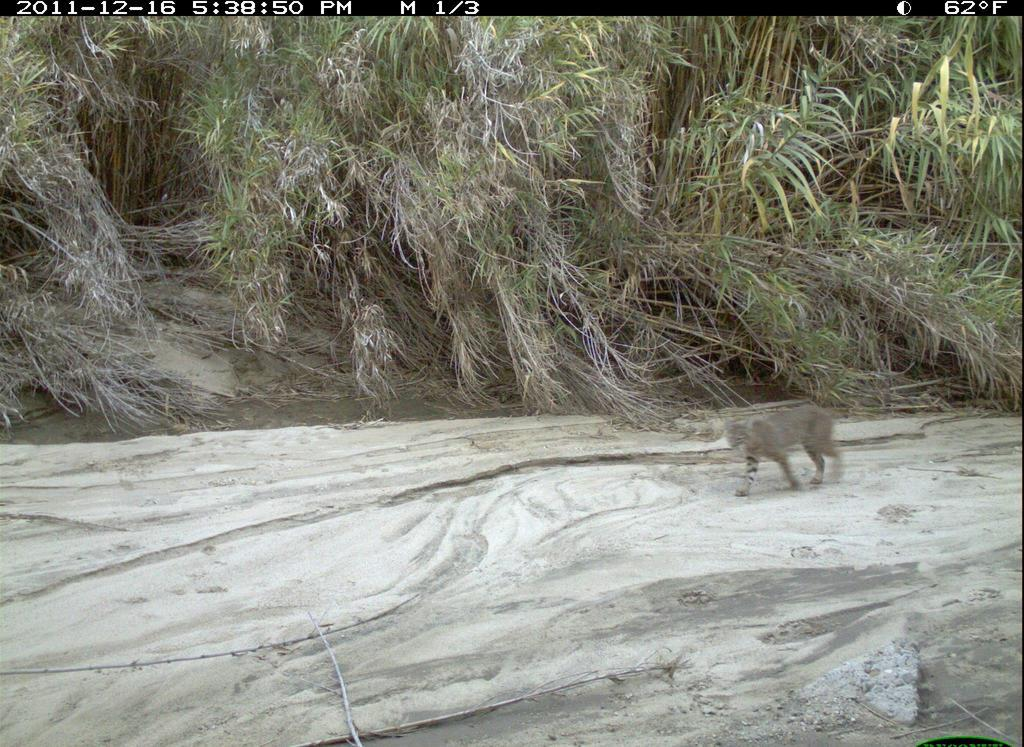bobcat: (716, 395, 858, 514)
